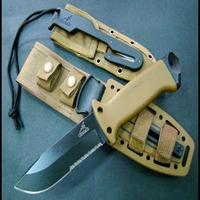knife: (14, 58, 175, 198)
